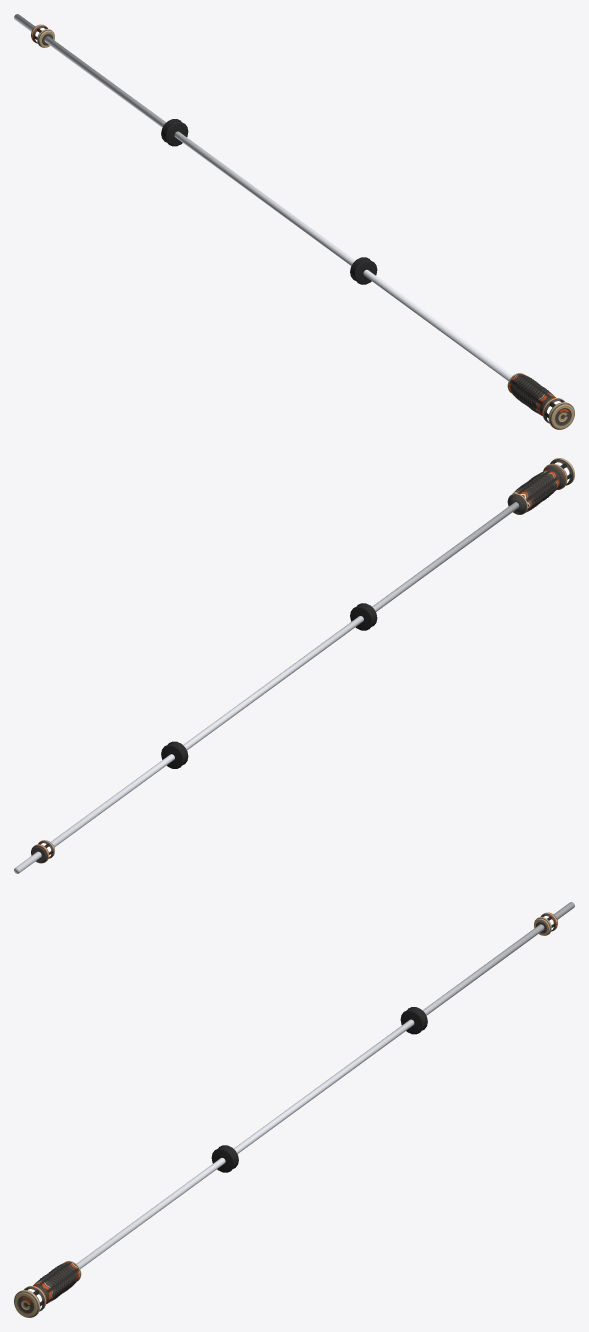
File: fuzeball_rod_1man.glb
The picture shows the model from 3 angles, top to bottom: view 1: azimuth 30°, elevation 25°; view 2: azimuth 150°, elevation 25°; view 3: azimuth 330°, elevation 25°; orthographic projection.
Parts seen in each view (by area): view 1: rod1_bar.002, rod1_handle_helios_grip; view 2: rod1_bar.002, rod1_handle_helios_grip; view 3: rod1_bar.002, rod1_handle_helios_grip.
Part boxes in pixels (x1,y1,x2,y2): rod1_bar.002: [14, 14, 512, 380]; rod1_handle_helios_grip: [509, 374, 555, 415]; rod1_bar.002: [14, 502, 519, 873]; rod1_handle_helios_grip: [508, 469, 560, 513]; rod1_bar.002: [76, 902, 574, 1268]; rod1_handle_helios_grip: [33, 1262, 79, 1303].
Size of the model in its own units: 3.34 by 3.34 by 124.
8 materials, 2 textured.
